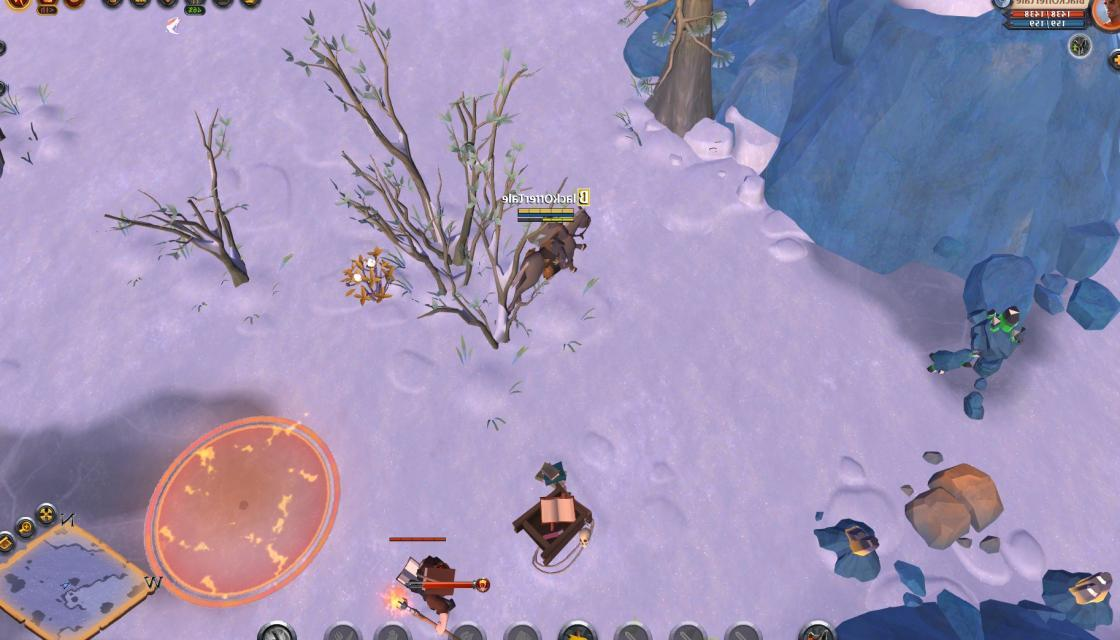copperore: (1042, 559, 1116, 630), (811, 516, 882, 580)
limestone: (906, 448, 1006, 556)
